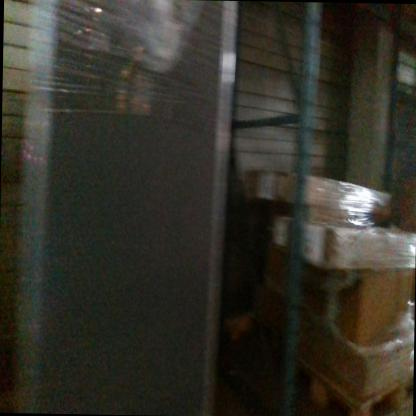pallet: (293, 355, 413, 416)
